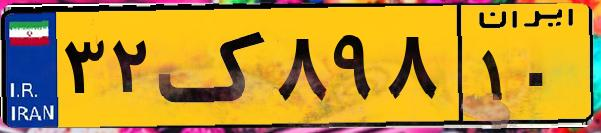0: (525, 38, 570, 115)
1: (475, 38, 525, 113)
2: (110, 28, 158, 98)
3: (57, 26, 110, 100)
8: (270, 28, 330, 110), (385, 28, 445, 110)
9: (330, 28, 385, 110)
ک: (158, 12, 270, 120)
